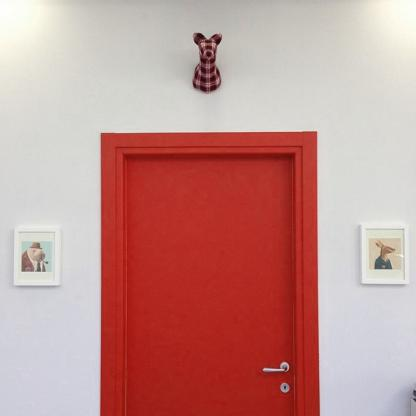door: (122, 152, 295, 416)
lever: (262, 364, 288, 374)
